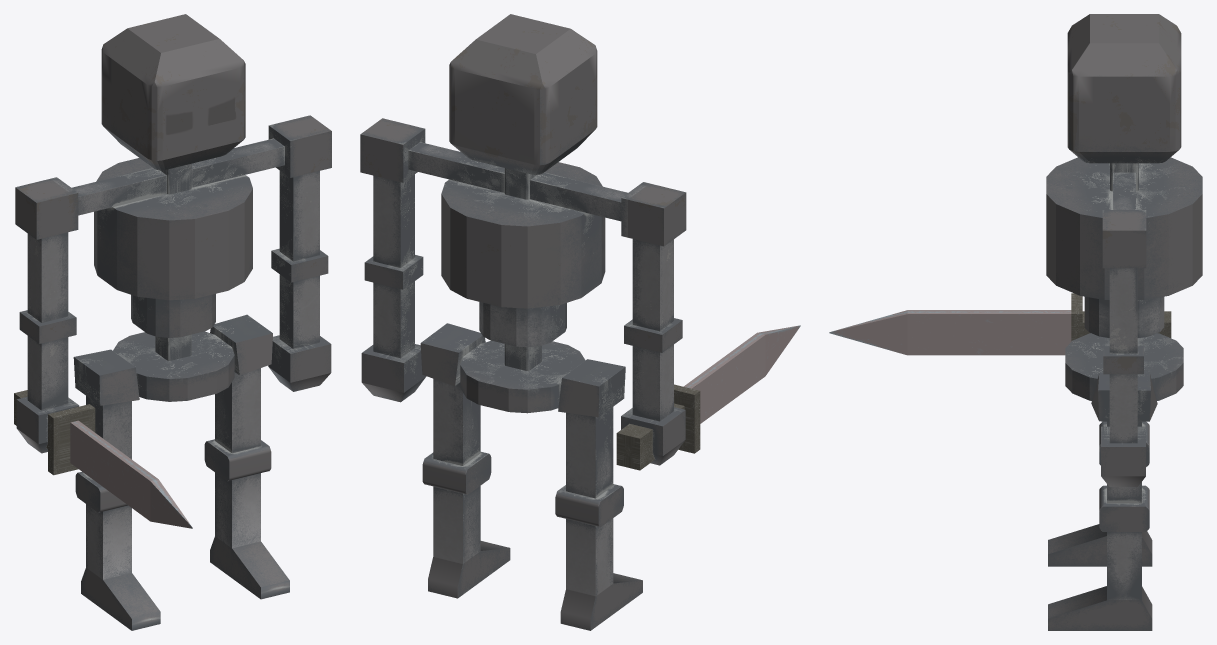
Rendered from Skeleton.fbx.
3 renders of one model, left to right at view 1: azimuth 30°, elevation 25°; view 2: azimuth 150°, elevation 25°; view 3: azimuth 270°, elevation 25°, orthographic. The views are drawn at different scales.
Visible parts, largest first — view 1: Skeleton1; view 2: Skeleton1; view 3: Skeleton1.
Part boxes in pixels (box(x1,y1,x2,y2)): Skeleton1: box(14, 14, 331, 630); Skeleton1: box(360, 14, 800, 630); Skeleton1: box(829, 14, 1202, 630).
Bounding box in the file's own units: 1.38 × 2.47 × 1.48.
